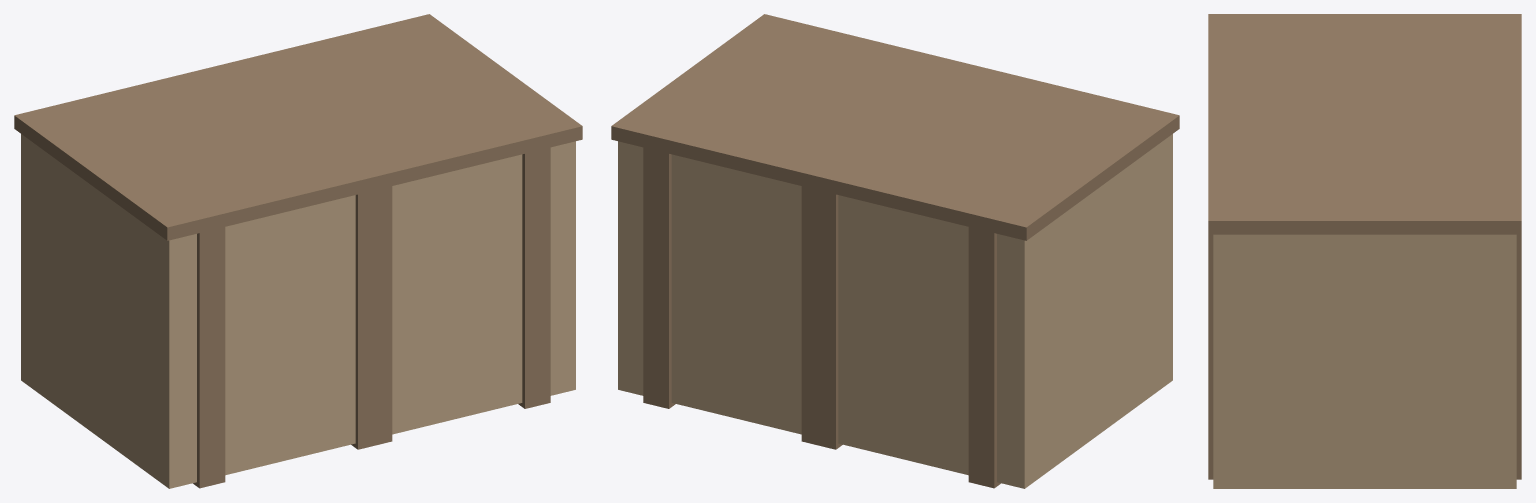
The model's file is loot_crate_wood.glb.
The picture shows the model from 3 angles, left to right: view 1: azimuth 30°, elevation 25°; view 2: azimuth 150°, elevation 25°; view 3: azimuth 270°, elevation 25°; orthographic projection. The views are drawn at different scales.
Visible parts, largest first — view 1: loot_crate_wood; view 2: loot_crate_wood; view 3: loot_crate_wood.
Boxes of the visible parts, x1,y1,x2,y2 form: loot_crate_wood: [14, 14, 582, 488]; loot_crate_wood: [611, 14, 1179, 488]; loot_crate_wood: [1208, 14, 1521, 488].
Size of the model in its own units: 0.97 by 0.6 by 0.62.
